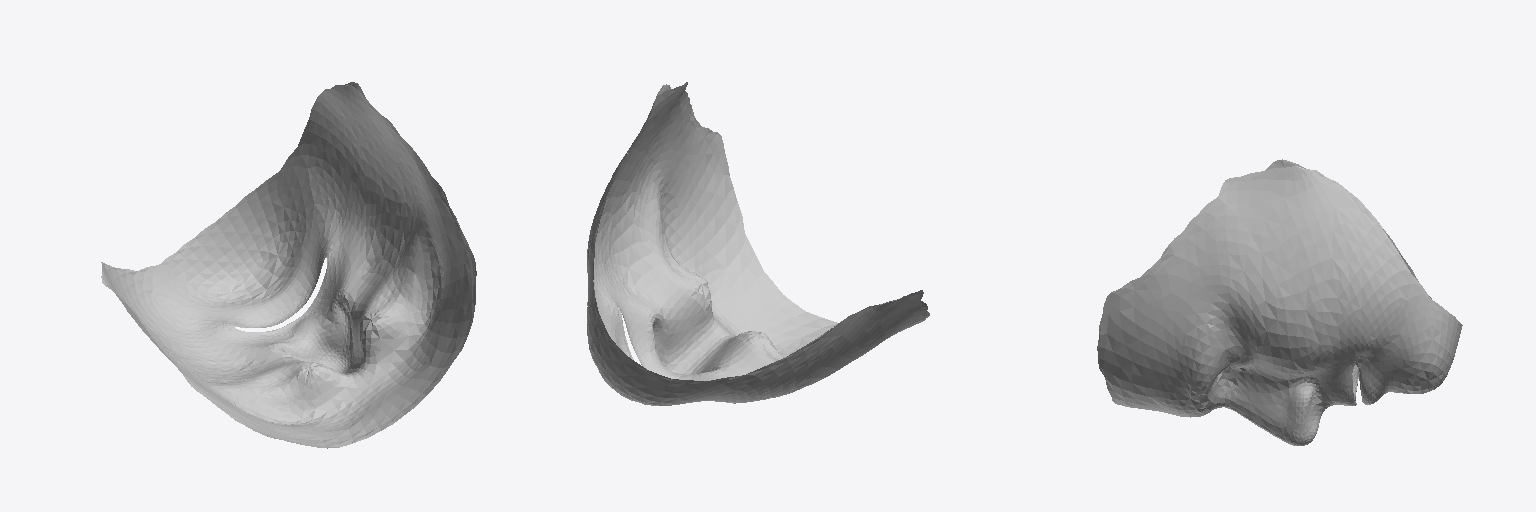
File: face_gab_sfm117.obj
3 views of the same model, side by side, from view 1: azimuth 30°, elevation 25°; view 2: azimuth 150°, elevation 25°; view 3: azimuth 270°, elevation 25° (orthographic).
Size of the model in its own units: 164 by 160 by 181.